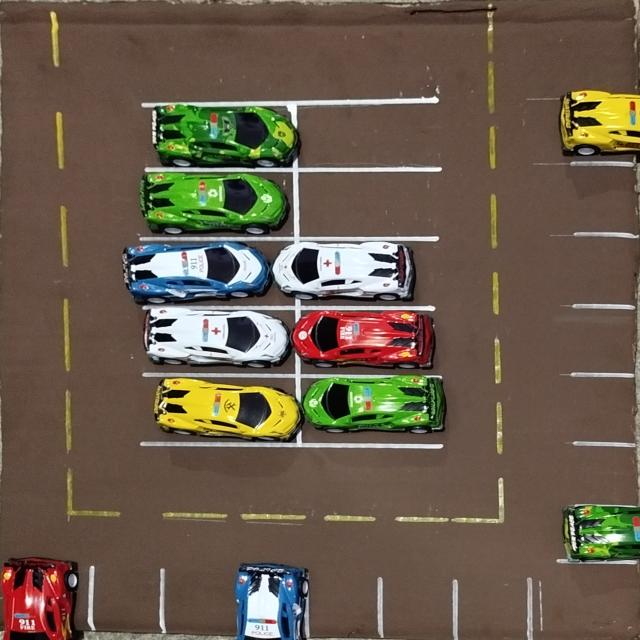libre: (295, 170, 452, 237), (305, 105, 455, 167), (161, 565, 236, 640), (378, 574, 460, 640), (92, 564, 163, 640), (457, 572, 531, 640), (309, 570, 379, 640), (574, 163, 640, 233), (574, 375, 640, 444), (576, 235, 640, 306), (577, 306, 640, 374), (574, 442, 640, 505)
no_estacionarse: (531, 564, 640, 640)
ocupado: (140, 374, 297, 445), (140, 168, 299, 237), (138, 102, 296, 171), (140, 306, 298, 375), (296, 376, 442, 446), (141, 241, 298, 305), (297, 307, 445, 372), (295, 238, 436, 306), (2, 553, 89, 640), (234, 560, 307, 640), (560, 90, 640, 162), (562, 507, 640, 565)
